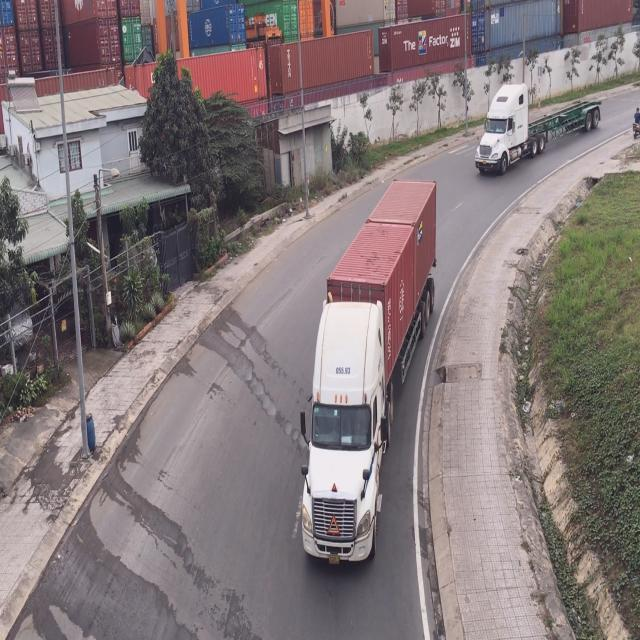motorbike: (632, 104, 640, 140)
truck: (299, 176, 436, 573), (473, 86, 603, 179)
